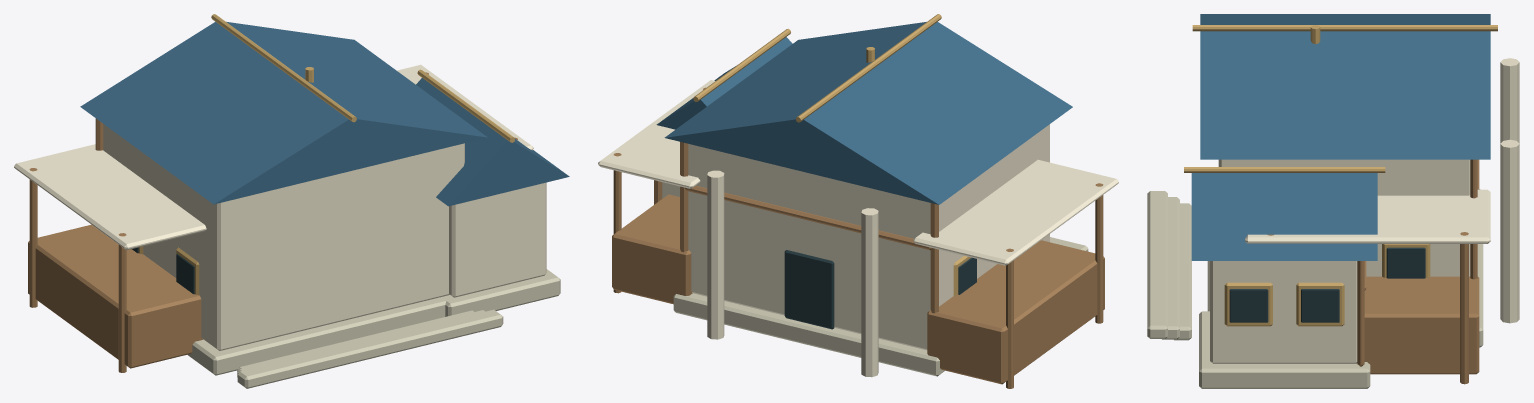
Rendered from level_21.glb.
The picture shows the model from 3 angles, left to right: view 1: azimuth 30°, elevation 25°; view 2: azimuth 150°, elevation 25°; view 3: azimuth 270°, elevation 25°; orthographic projection. The views are drawn at different scales.
Visible parts, largest first — view 1: market — level 21; view 2: market — level 21; view 3: market — level 21.
Boxes of the visible parts, x1,y1,x2,y2 form: market — level 21: (14, 14, 569, 388); market — level 21: (598, 14, 1118, 388); market — level 21: (1147, 14, 1519, 388).
Bounding box in the file's own units: 7.08 × 3.82 × 5.
